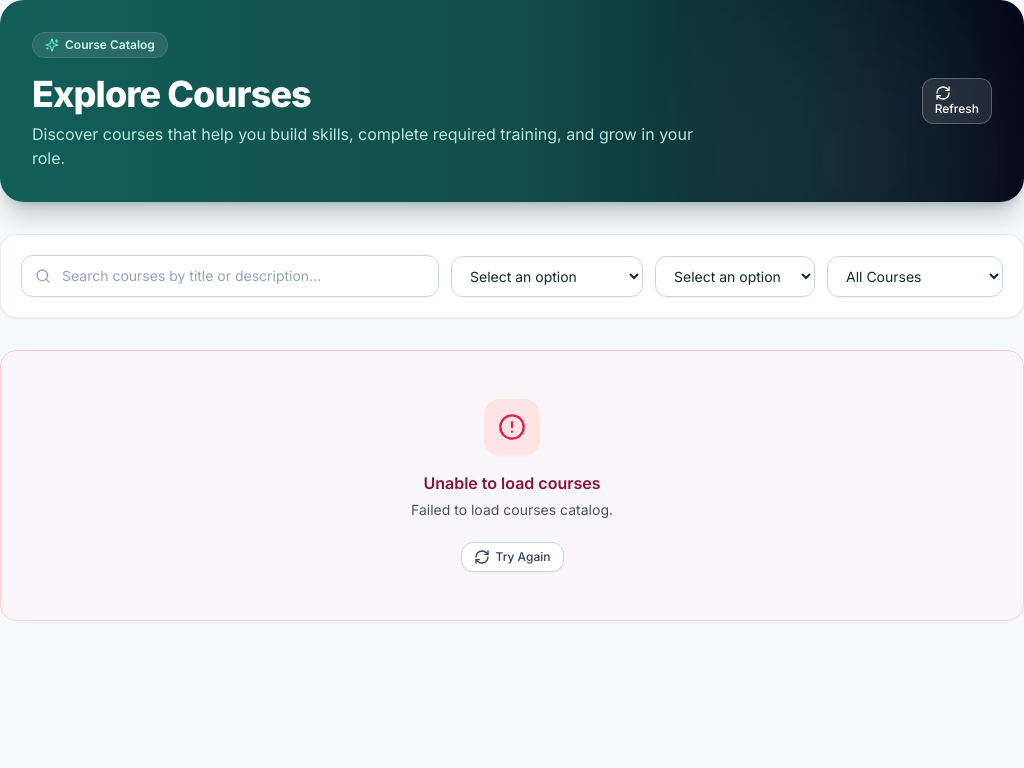
CoursesPage (Scenarios 1-8) › 6. re-fetches courses when retry button is clicked
Expected: the heading "Unable to load courses" is shown, [423,471,601,495]
Click the button "Try Again": (512, 557) [460,542,564,572]
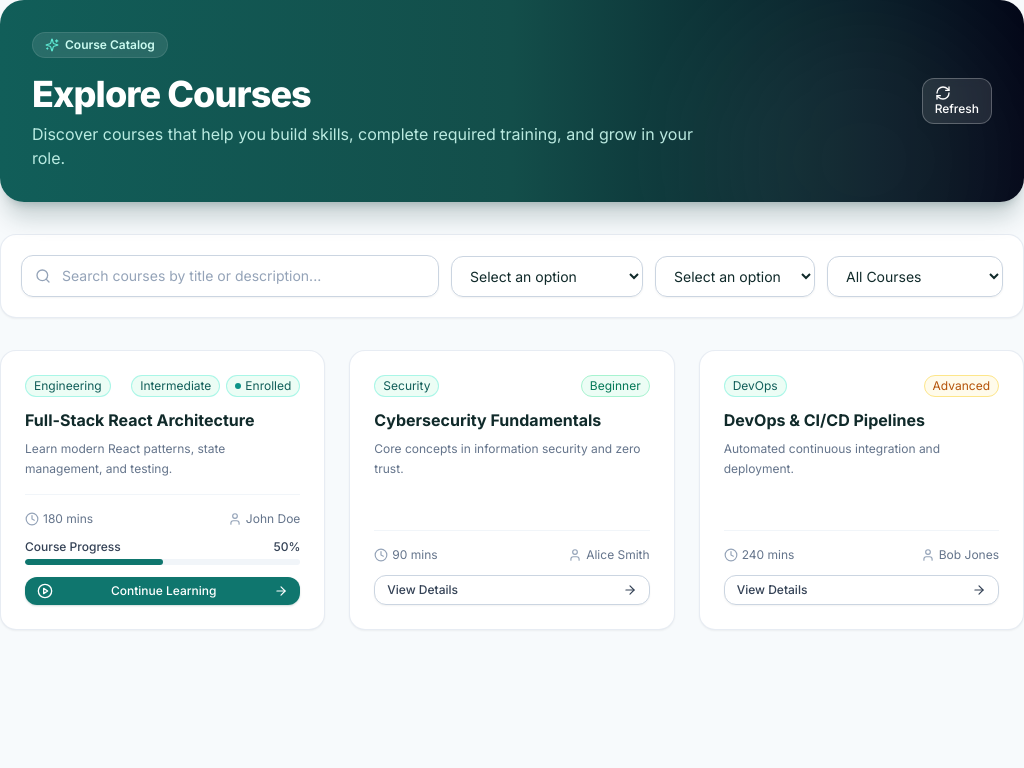
Result: the heading "Full-Stack React Architecture" is shown at [25,410,254,430]
